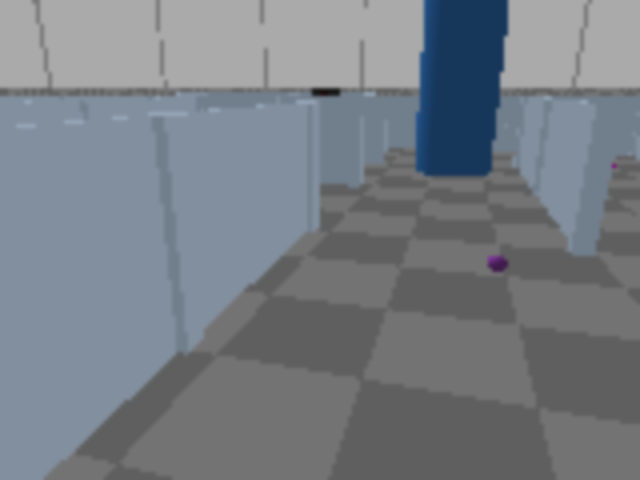puck: (482, 251, 512, 277)
